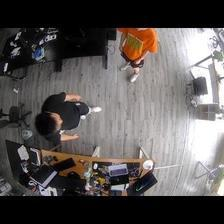normal: (35, 90, 101, 145), (116, 26, 162, 83)
